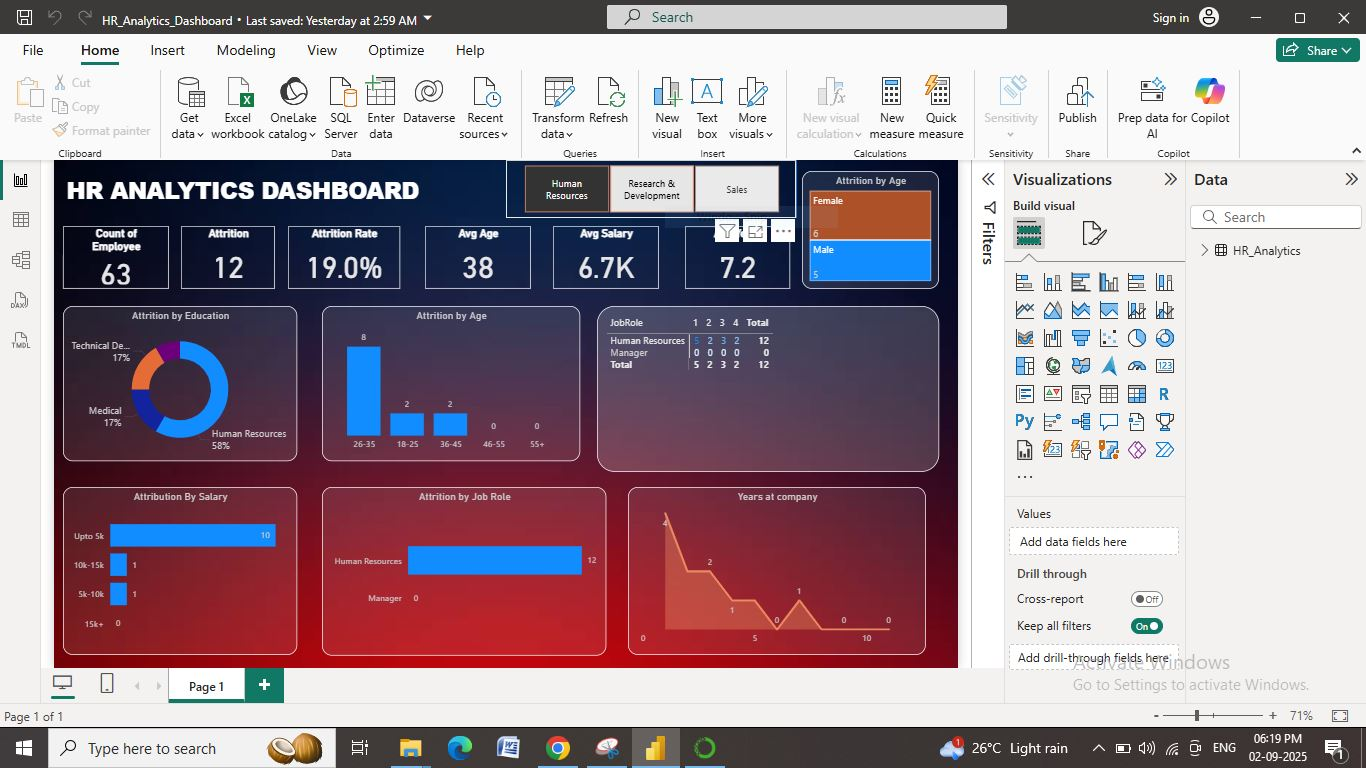

The page's visual inventory and layout, read from the dashboard file:
{"tool":"powerbi","page":{"name":"Page 1","canvas":[1280,720],"ordinal":0},"visuals":[{"type":"card","title":"Count of Employee","fields":{"Values":["CountNonNull(HR_Analytics.EmpID)"]},"box":[13.4,94.1,149.5,89],"z":0},{"type":"card","title":"Attrition Rate","fields":{"Values":["HR_Analytics.AttritionRate"]},"box":[331.7,93.5,158.7,89.3],"z":1000},{"type":"card","title":"Avg Age","fields":{"Values":["Avg(HR_Analytics.Age)"]},"box":[525.8,93.5,150.2,89.3],"z":2000},{"type":"card","title":"Attrition","fields":{"Values":["Sum(HR_Analytics.AttritionCount)"]},"box":[180,93.5,133.2,89.3],"z":3000},{"type":"card","title":"Avg Years","fields":{"Values":["Avg(HR_Analytics.YearsAtCompany)"]},"box":[894.3,93.5,148.8,89.3],"z":4000},{"type":"card","title":"Avg Salary","fields":{"Values":["Avg(HR_Analytics.MonthlyIncome)"]},"box":[707.2,93.5,150.2,89.3],"z":5000},{"type":"donutChart","title":"Attrition by Education","fields":{"Category":["HR_Analytics.EducationField"],"Y":["Sum(HR_Analytics.AttritionCount)"]},"box":[12.8,206.9,331.7,219.7],"z":6000},{"type":"columnChart","title":"Attrition by Age","fields":{"Category":["HR_Analytics.AgeGroup"],"Y":["Sum(HR_Analytics.AttritionCount)"]},"box":[379.8,206.9,365.7,219.7],"z":7000},{"type":"pivotTable","fields":{"Rows":["HR_Analytics.JobRole"],"Columns":["HR_Analytics.JobSatisfaction"],"Values":["Sum(HR_Analytics.AttritionCount)"]},"box":[769.6,206.9,484.7,235.3],"z":8000},{"type":"barChart","title":"Attribution By Salary","fields":{"Category":["HR_Analytics.SalarySlab"],"Y":["Sum(HR_Analytics.AttritionCount)"]},"box":[12.8,463.5,331.7,238.1],"z":9000},{"type":"barChart","title":"Attrition by Job Role","fields":{"Category":["HR_Analytics.JobRole"],"Y":["Sum(HR_Analytics.AttritionCount)"]},"box":[379.6,463.6,403.1,238.5],"z":10000},{"type":"areaChart","title":"Years at company","fields":{"Category":["HR_Analytics.YearsAtCompany"],"Y":["Sum(HR_Analytics.AttritionCount)"]},"box":[813.5,463.5,422.4,238.1],"z":11000},{"type":"treemap","title":"Attrition by Age","fields":{"Group":["HR_Analytics.Gender"],"Values":["Sum(HR_Analytics.AttritionCount)"]},"box":[1060.2,15.6,194.2,167.2],"z":12000},{"type":"slicer","fields":{"Values":["HR_Analytics.Department"]},"box":[640,0,411.5,82.3],"z":13000},{"type":"textbox","box":[13.4,15.1,608.1,67.2],"z":14000}]}

Visuals, with their boxes on the page's 1280x720 design canvas (x1, y1, x2, y2). These are canvas units, not pixel positions in the 1366x768 screenshot, which may show the page scaled, cropped or inside an application window:
"Count of Employee" card: (13, 94, 163, 183)
"Attrition Rate" card: (332, 94, 490, 183)
"Avg Age" card: (526, 94, 676, 183)
"Attrition" card: (180, 94, 313, 183)
"Avg Years" card: (894, 94, 1043, 183)
"Avg Salary" card: (707, 94, 857, 183)
"Attrition by Education" donutChart: (13, 207, 344, 427)
"Attrition by Age" columnChart: (380, 207, 746, 427)
pivotTable - HR_Analytics.JobRole x HR_Analytics.JobSatisfaction: (770, 207, 1254, 442)
"Attribution By Salary" barChart: (13, 464, 344, 702)
"Attrition by Job Role" barChart: (380, 464, 783, 702)
"Years at company" areaChart: (814, 464, 1236, 702)
"Attrition by Age" treemap: (1060, 16, 1254, 183)
slicer - HR_Analytics.Department: (640, 0, 1052, 82)
textbox: (13, 15, 622, 82)
